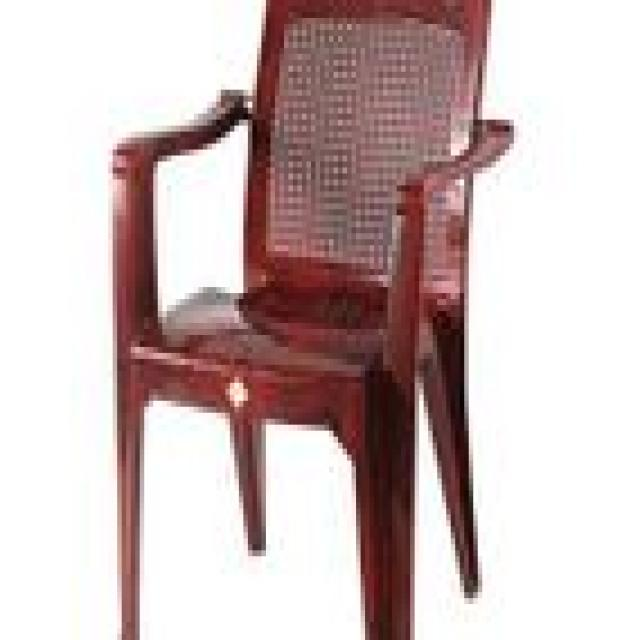others: (81, 6, 523, 640)
